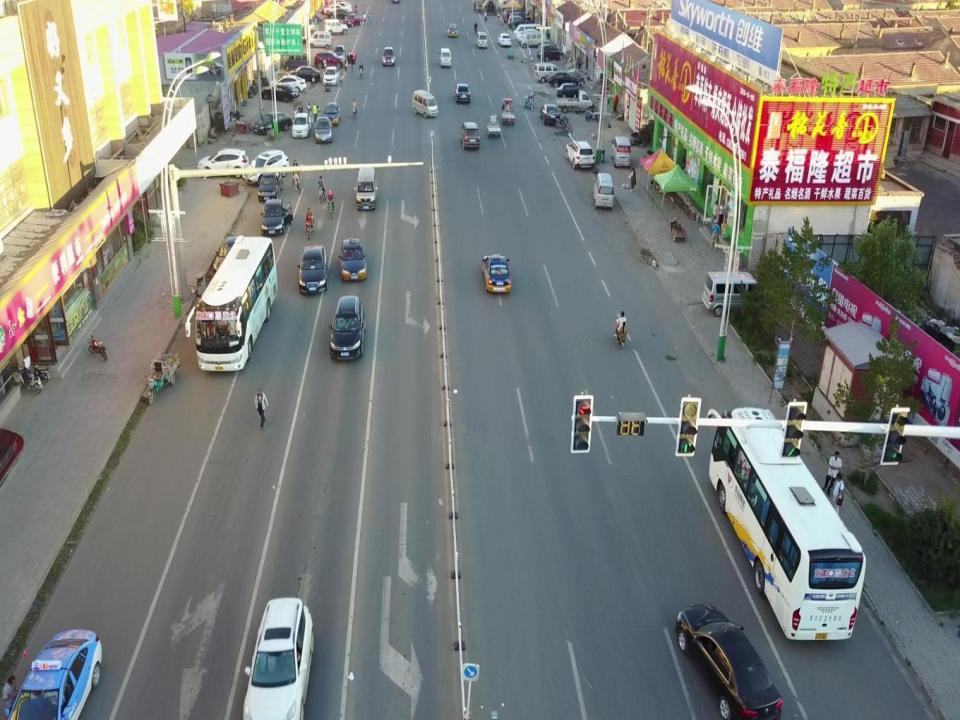bus: (706, 407, 865, 639), (185, 235, 277, 371)
car: (675, 603, 783, 720), (0, 628, 102, 720), (297, 244, 328, 292), (214, 234, 246, 274), (259, 199, 293, 235), (338, 238, 367, 280), (482, 254, 512, 294), (252, 111, 292, 136), (258, 167, 283, 200), (260, 84, 300, 103), (270, 75, 306, 93), (286, 66, 320, 83), (292, 113, 312, 137), (548, 72, 578, 88), (314, 117, 332, 143), (556, 83, 584, 99), (539, 104, 560, 125), (323, 102, 340, 126), (322, 66, 340, 85), (454, 84, 471, 103), (323, 4, 348, 16), (327, 8, 350, 20), (343, 14, 362, 27), (328, 2, 352, 12), (517, 34, 540, 44), (333, 45, 346, 61), (447, 22, 458, 38)
truck: (556, 89, 594, 113)
van: (242, 596, 314, 720), (701, 270, 762, 317), (329, 296, 365, 360), (242, 150, 290, 185), (197, 148, 249, 178), (354, 167, 378, 210), (565, 140, 595, 170), (592, 172, 614, 210), (412, 89, 438, 118), (611, 136, 631, 168), (534, 63, 563, 83), (314, 51, 346, 69), (460, 122, 480, 150), (283, 52, 309, 72), (536, 44, 564, 62), (308, 31, 332, 49), (514, 24, 541, 40), (323, 19, 348, 35), (520, 32, 544, 48), (516, 29, 540, 44), (508, 12, 531, 26), (507, 16, 531, 28), (438, 48, 451, 68), (382, 47, 395, 66), (502, 10, 522, 22), (476, 31, 487, 48), (498, 33, 511, 47)
